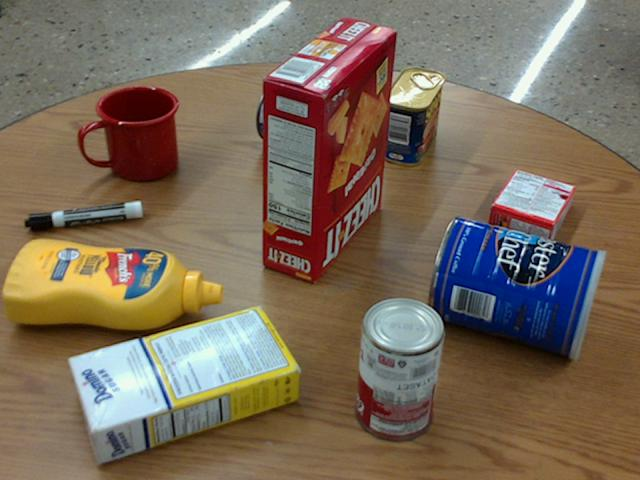cracker_box: (261, 15, 397, 281)
gelatin_box: (488, 167, 575, 241)
large_marker: (26, 200, 142, 231)
master_chef_can: (430, 213, 607, 357)
mug: (81, 86, 178, 182)
mustard_bottle: (4, 237, 222, 331)
potted_meat_can: (383, 66, 445, 165)
sugar_box: (65, 305, 298, 462)
tomato_soup_can: (358, 295, 446, 438)
tuna_fish_can: (255, 72, 315, 146)
